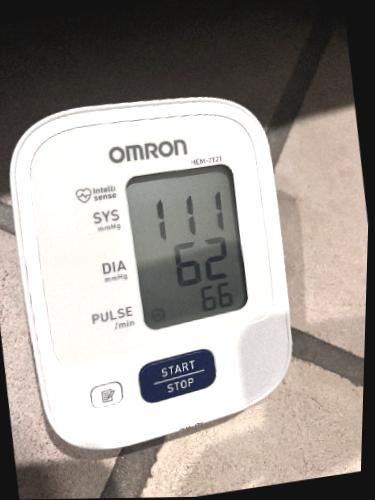bpm: (121, 160, 253, 334)
